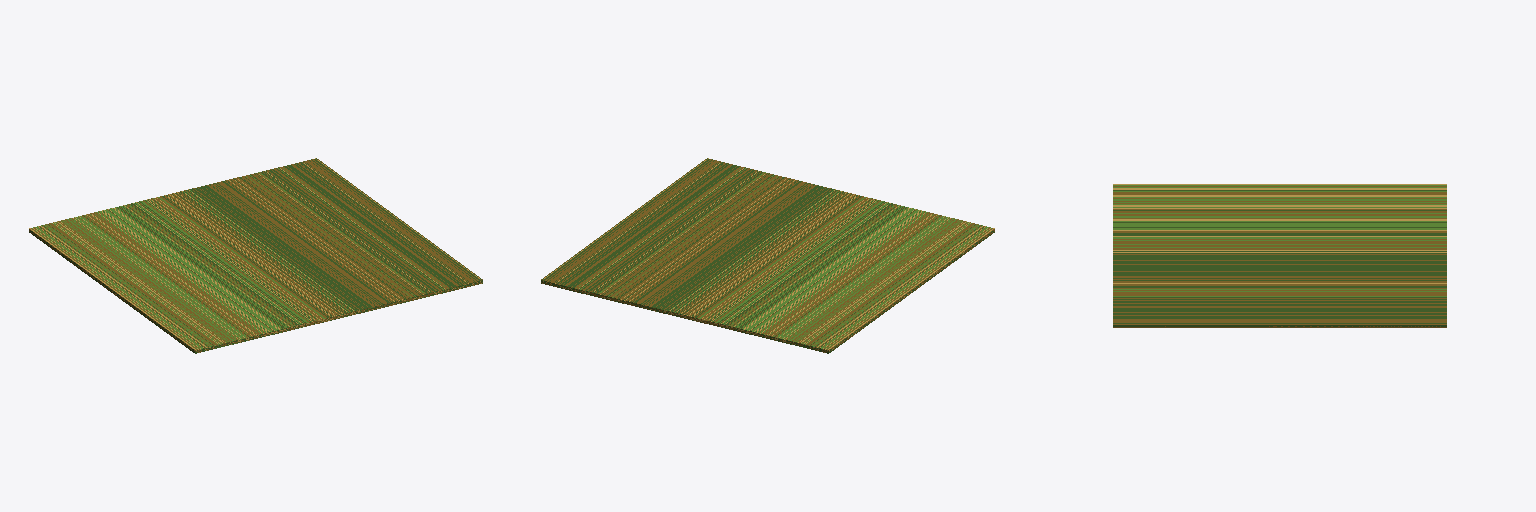
3 views of the same model, side by side, from view 1: azimuth 30°, elevation 25°; view 2: azimuth 150°, elevation 25°; view 3: azimuth 270°, elevation 25° (orthographic).
Parts seen in each view (by area): view 1: mesh01; view 2: mesh01; view 3: mesh01.
Part boxes in pixels (x1,y1,x2,y2): mesh01: (29,158,482,353); mesh01: (541,158,994,353); mesh01: (1113,184,1446,327).
Bounding box in the file's own units: 682 × 7.9 × 682.
Materials: 1 (1 with a texture image).